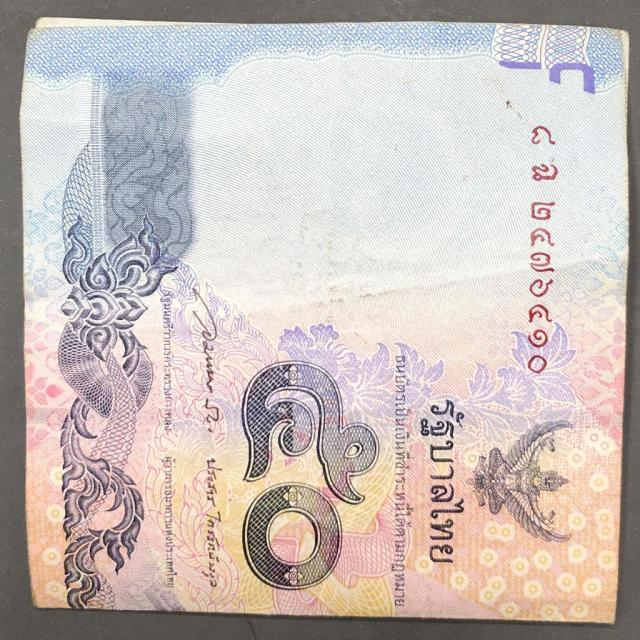THAI50: (20, 18, 628, 624)
